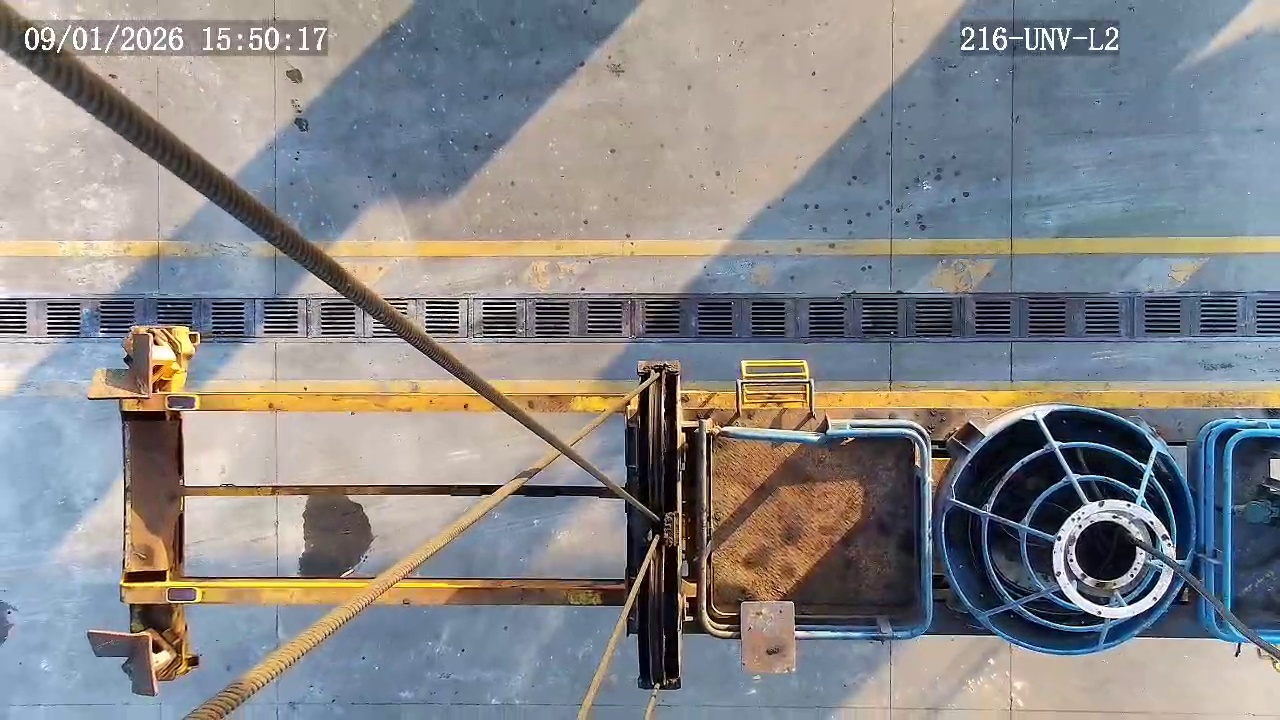left: (941, 408, 1196, 657)
